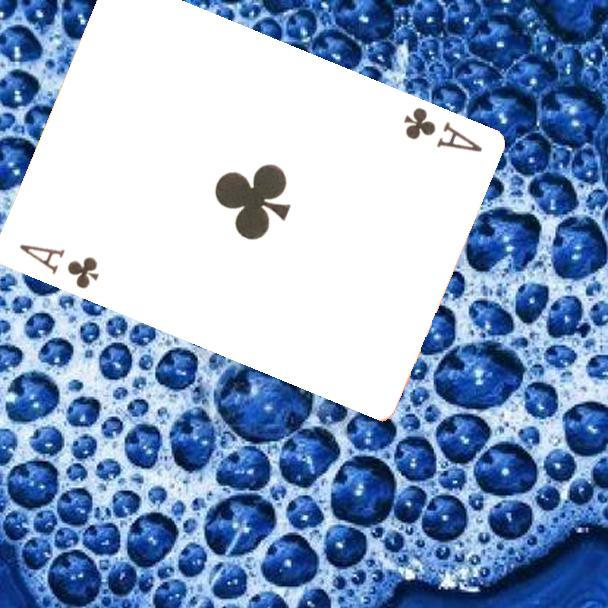c01: (399, 103, 485, 156), (15, 241, 102, 292)
